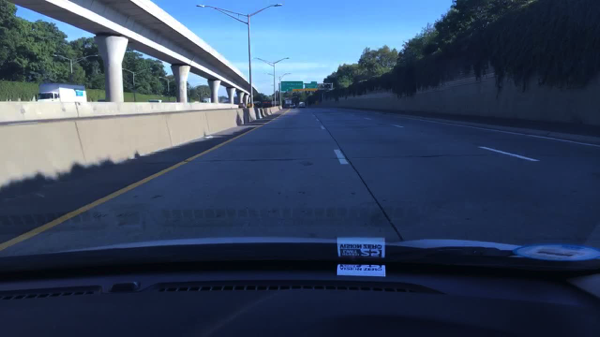car: (148, 99, 161, 105), (262, 101, 273, 108), (246, 102, 256, 108), (298, 102, 305, 109), (237, 102, 243, 109), (254, 101, 260, 108), (289, 103, 296, 108)
traffic sign: (281, 81, 303, 92), (304, 83, 317, 92), (311, 81, 317, 84)
truck: (37, 81, 88, 105), (281, 99, 293, 109), (201, 96, 212, 103)
